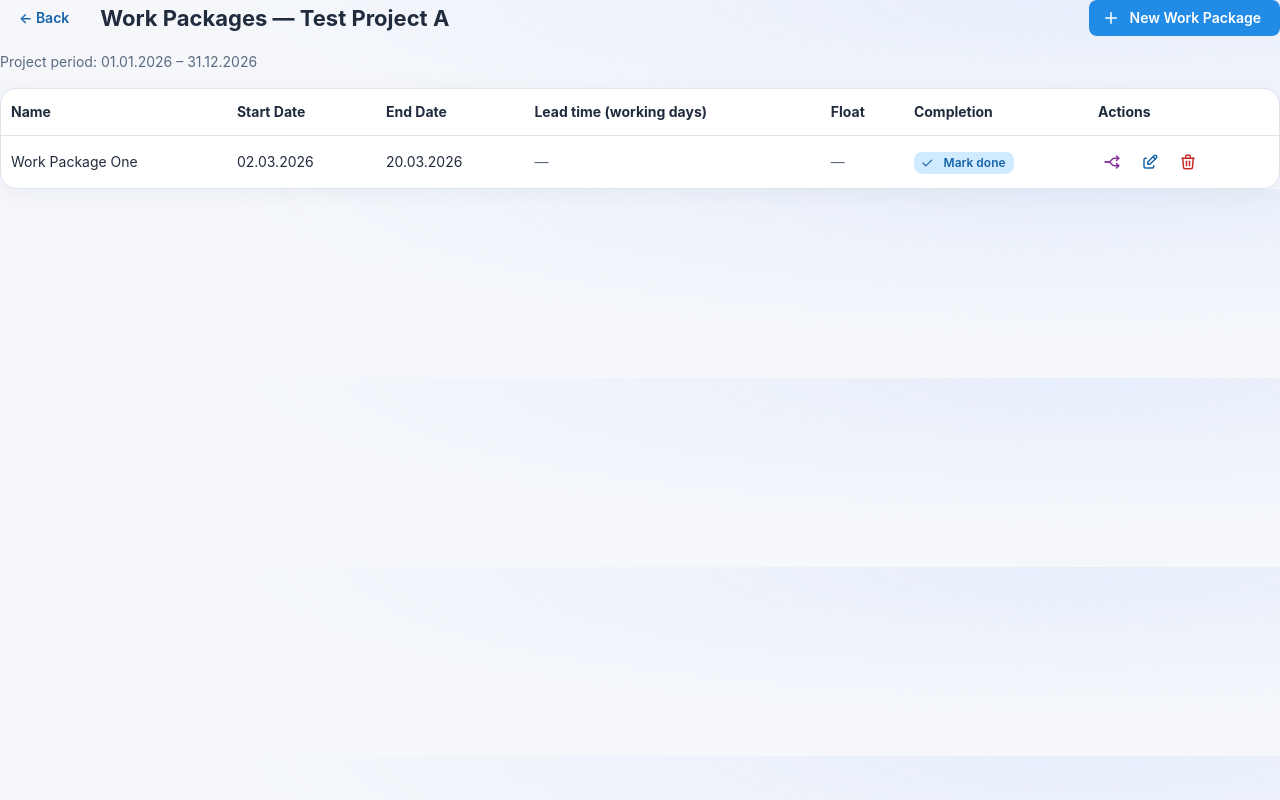
Test: WorkPackagesSection — editing the time range › prefills the modal date inputs with the stored time range
Expected: the table is shown, [1,89,1279,188]
Click the button named "Edit work package" at (1150, 162), box [1136,148,1164,176]
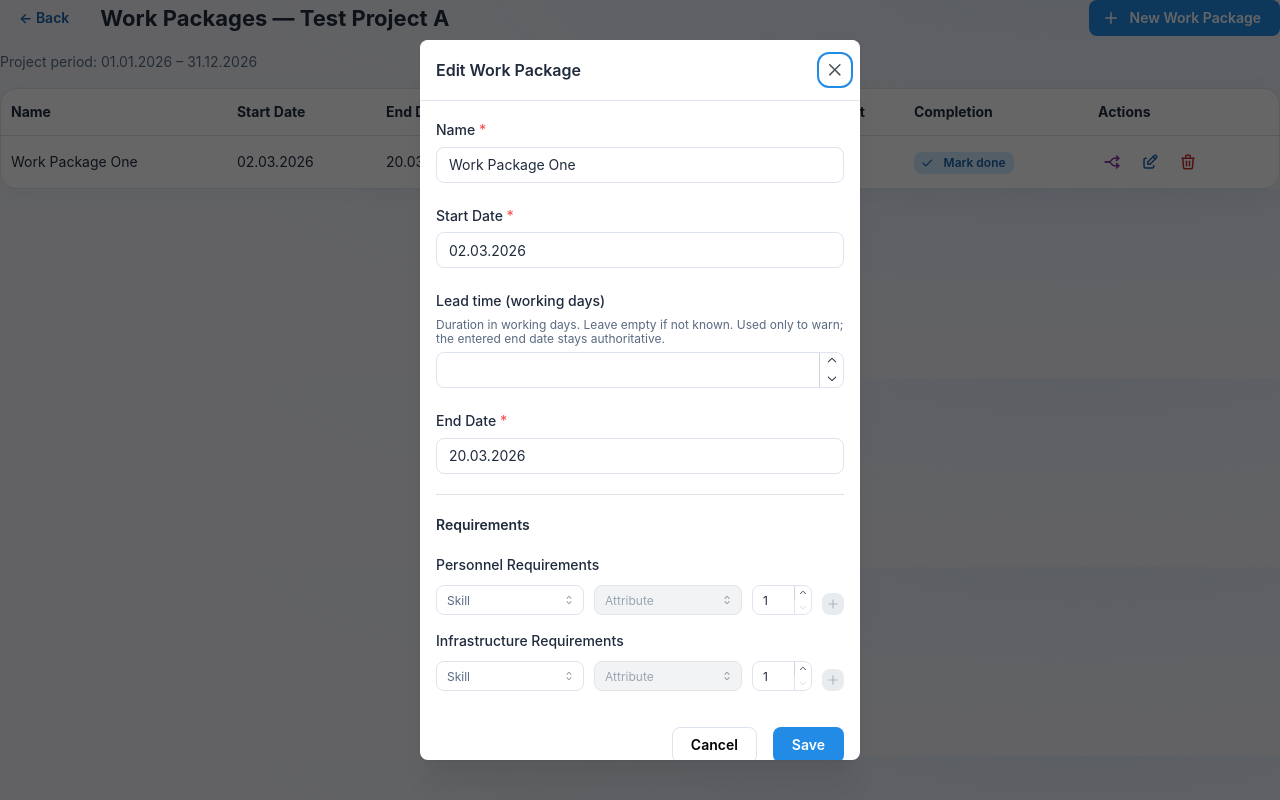
Now the field labelled "Start Date *" holds "02.03.2026", box [436,232,844,268]
Now the field labelled "End Date *" holds "20.03.2026", box [436,438,844,474]
Now the field labelled "Name *" holds "Work Package One", box [436,147,844,183]
